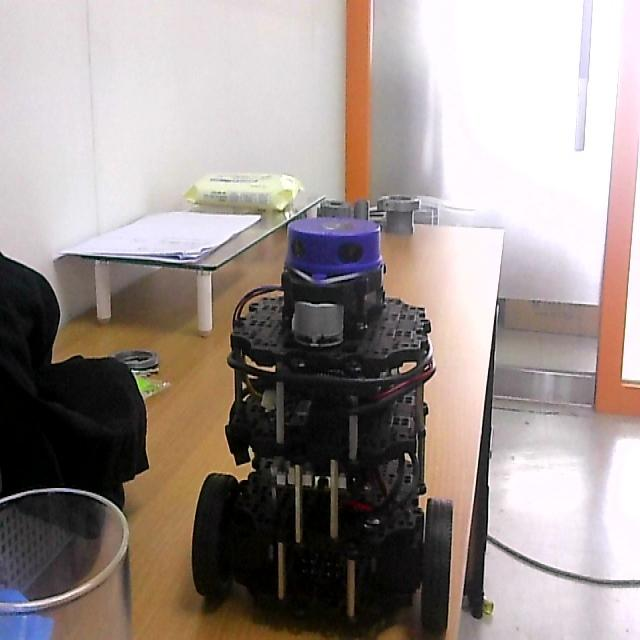turtle: (191, 216, 455, 640)
